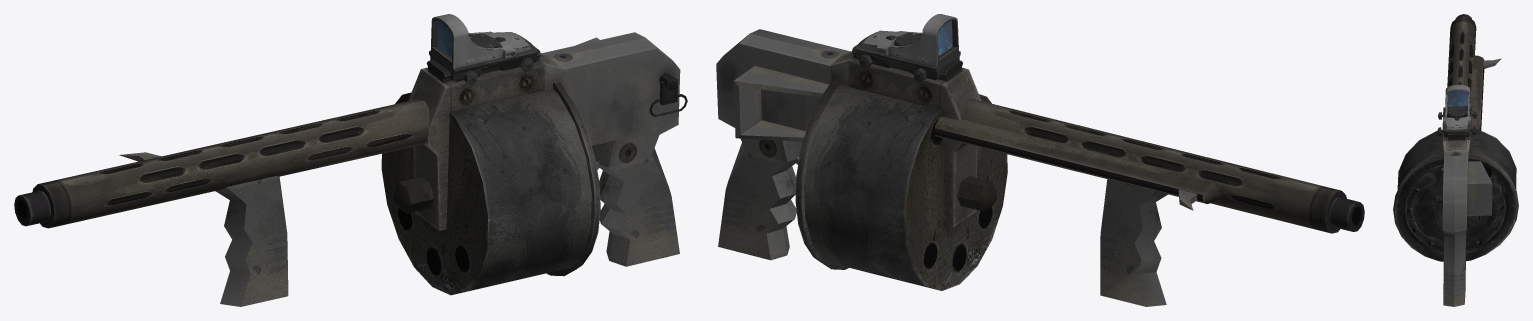
3 views of the same model, side by side, from view 1: azimuth 30°, elevation 25°; view 2: azimuth 150°, elevation 25°; view 3: azimuth 270°, elevation 25° (orthographic). The views are drawn at different scales.
Parts seen in each view (by area): view 1: 4ccbd788.obj, 4f7f0f70.obj, 4cd023c8.obj; view 2: 4ccbd788.obj, 4f7f0f70.obj, 4cd023c8.obj; view 3: 4ccbd788.obj, 4cd023c8.obj, 4cd46008.obj.
Part boxes in pixels (bbox=[...]): 4ccbd788.obj: bbox=[14, 32, 687, 295]; 4f7f0f70.obj: bbox=[215, 175, 288, 306]; 4cd023c8.obj: bbox=[429, 14, 537, 84]; 4ccbd788.obj: bbox=[716, 29, 1364, 290]; 4f7f0f70.obj: bbox=[1100, 179, 1167, 306]; 4cd023c8.obj: bbox=[855, 14, 960, 82]; 4ccbd788.obj: bbox=[1393, 14, 1518, 306]; 4cd023c8.obj: bbox=[1437, 84, 1477, 137]; 4cd46008.obj: bbox=[1447, 90, 1468, 106].
Size of the model in its own units: 5.63 by 2.31 by 1.67.
Materials: 4 (4 with a texture image).
